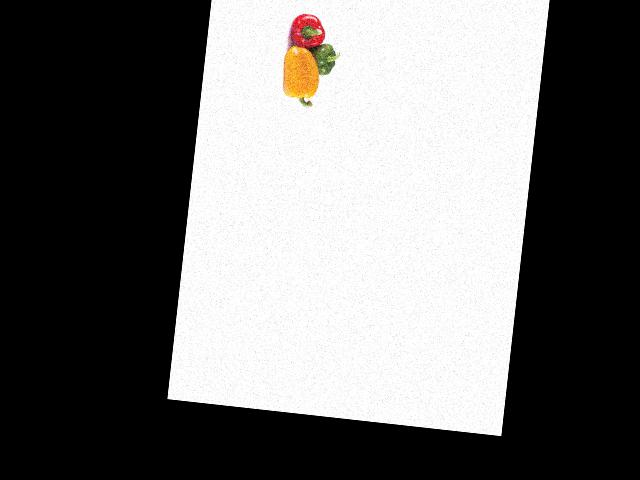bell_pepper: (305, 38, 341, 80)
